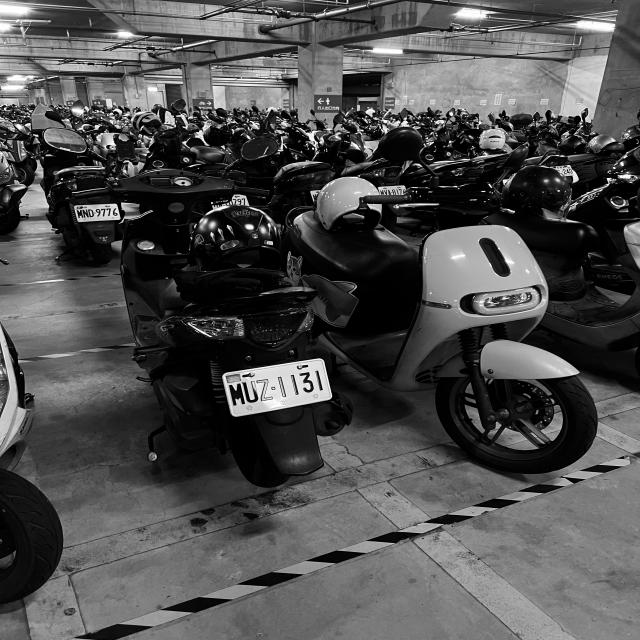-: (270, 385, 276, 391), (94, 212, 96, 214)
1: (223, 366, 329, 406), (75, 204, 122, 222), (300, 372, 316, 394), (314, 369, 326, 392), (276, 375, 288, 398), (289, 374, 299, 396)
6: (112, 207, 119, 217)
7: (106, 208, 112, 216), (101, 208, 106, 217)
9: (96, 208, 100, 216)
D: (88, 208, 94, 218)
M: (228, 382, 246, 408), (76, 209, 84, 219)
N: (82, 209, 89, 218)
U: (241, 380, 260, 404)
Z: (256, 378, 274, 403)
